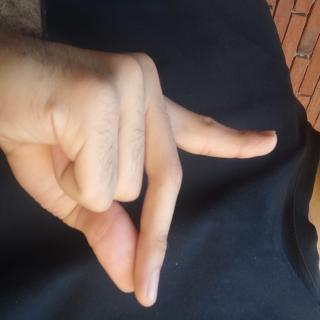TAA: (21, 48, 239, 320)
